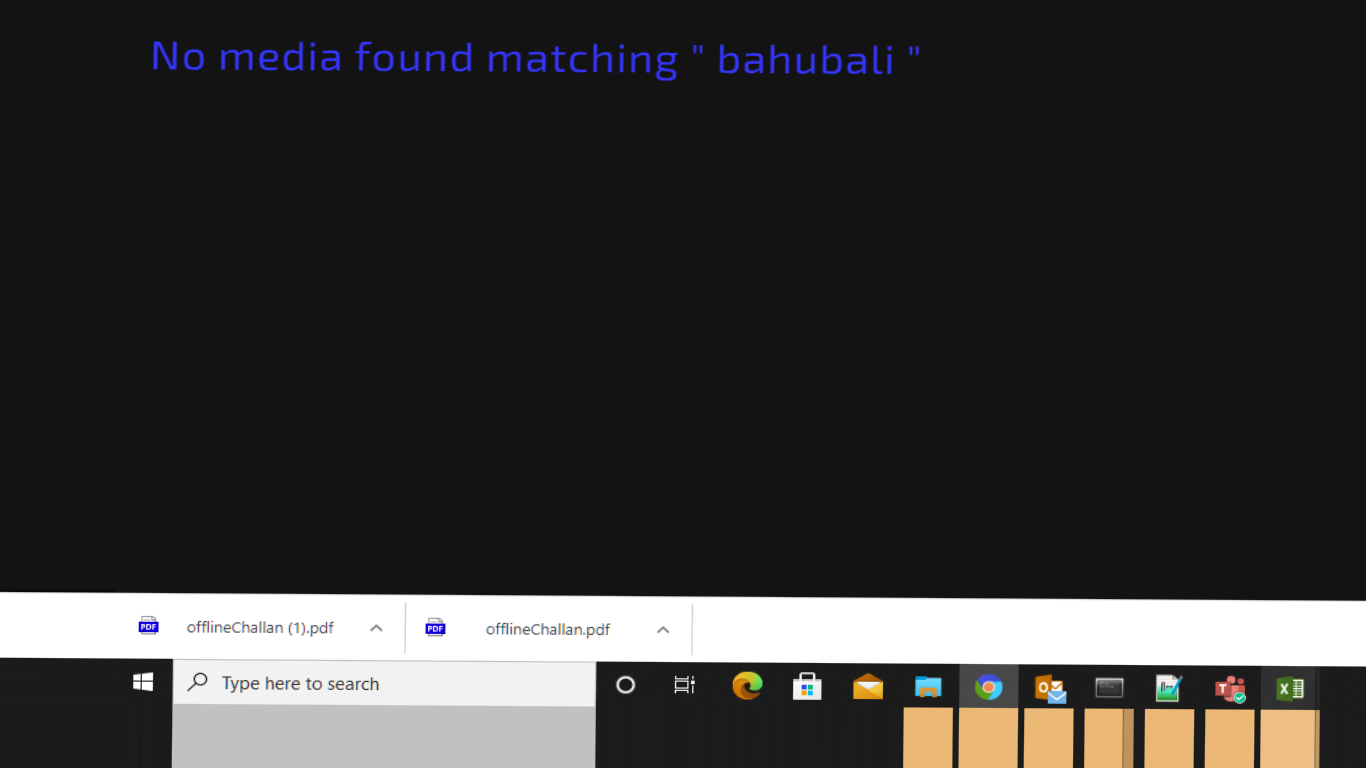noresultsfound: (137, 22, 956, 105)
